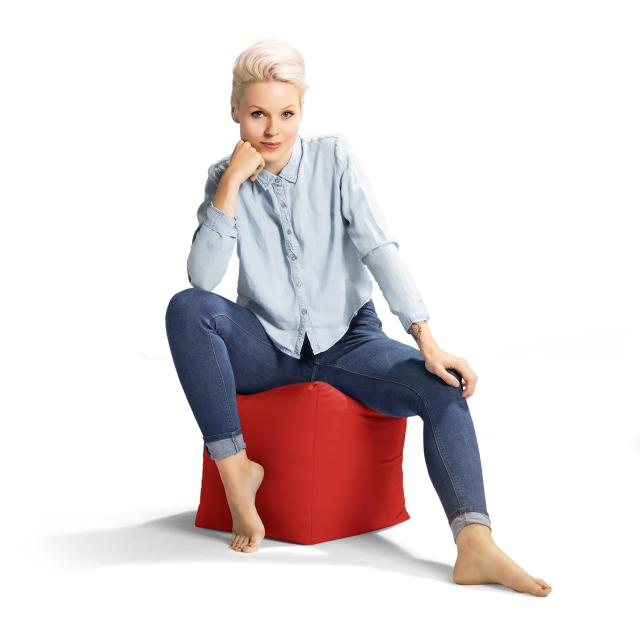nonfall: (164, 23, 555, 599)
